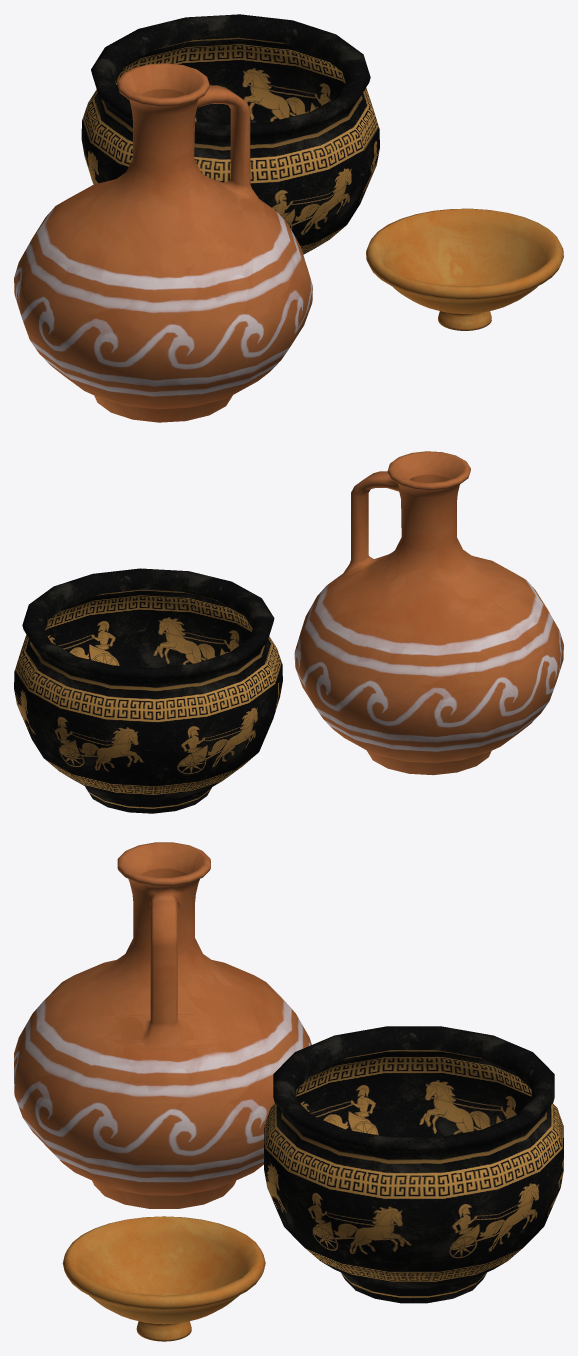
The model's file is poteries_antique_low_poly.glb.
The picture shows the model from 3 angles, top to bottom: view 1: azimuth 30°, elevation 25°; view 2: azimuth 150°, elevation 25°; view 3: azimuth 270°, elevation 25°; orthographic projection. The views are drawn at different scales.
Visible parts, largest first — view 1: cruche romaine_low, Vase, petite Coupe_low; view 2: cruche romaine_low, Vase; view 3: Vase, cruche romaine_low, petite Coupe_low.
Part boxes in pixels (x1=…): cruche romaine_low: x1=14, y1=63, x2=312, y2=422; Vase: x1=81, y1=14, x2=379, y2=254; petite Coupe_low: x1=366, y1=208, x2=563, y2=330; cruche romaine_low: x1=294, y1=451, x2=563, y2=775; Vase: x1=14, y1=568, x2=282, y2=813; Vase: x1=264, y1=1026, x2=563, y2=1303; cruche romaine_low: x1=14, y1=842, x2=311, y2=1208; petite Coupe_low: x1=62, y1=1216, x2=265, y2=1341.
Size of the model in its own units: 3.41 by 1.97 by 3.08.
Materials: 3 (3 with a texture image).
